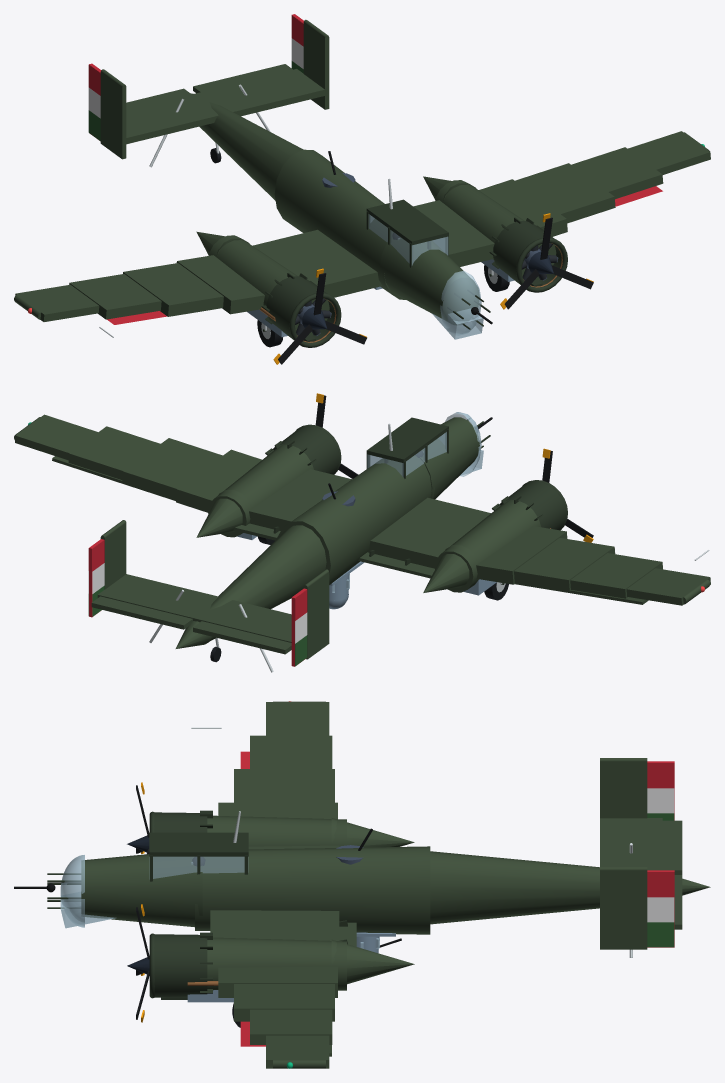
Rendered from hungarian_ju86.obj.
The picture shows the model from 3 angles, top to bottom: view 1: azimuth 30°, elevation 25°; view 2: azimuth 150°, elevation 25°; view 3: azimuth 270°, elevation 25°; orthographic projection. The views are drawn at different scales.
Visible parts, largest first — view 1: Mesh, Fuselage_Mid, Wing_CenterSection, Tail_HorizontalStabilizer, Fuselage_Forward, Fuselage_Aft, Nose_GlazedTurret, Cockpit_GlassCanopy, Nose_BombardierGlass, Elevator_Right; view 2: Mesh, Fuselage_Mid, Wing_CenterSection, Tail_HorizontalStabilizer, Fuselage_Aft, Fuselage_Forward, Elevator_Right, Elevator_Left, Cockpit_GlassCanopy, Flap_Left_Inboard, Aileron_Left_Outboard; view 3: Mesh, Fuselage_Mid, Fuselage_Aft, Fuselage_Forward, Wing_CenterSection, Tail_HorizontalStabilizer, Cockpit_GlassCanopy, Nose_GlazedTurret, Elevator_Left, Nose_BombardierGlass.
Part boxes in pixels (x1=…): Mesh: x1=14, y1=15, x2=710, y2=364; Fuselage_Mid: x1=274, y1=149, x2=405, y2=299; Wing_CenterSection: x1=252, y1=200, x2=494, y2=297; Tail_HorizontalStabilizer: x1=124, y1=69, x2=325, y2=144; Fuselage_Forward: x1=379, y1=237, x2=479, y2=321; Fuselage_Aft: x1=199, y1=102, x2=303, y2=200; Nose_GlazedTurret: x1=440, y1=270, x2=481, y2=333; Cockpit_GlassCanopy: x1=368, y1=214, x2=448, y2=265; Nose_BombardierGlass: x1=432, y1=309, x2=483, y2=339; Elevator_Right: x1=193, y1=64, x2=292, y2=93; Mesh: x1=14, y1=393, x2=710, y2=672; Fuselage_Mid: x1=276, y1=455, x2=434, y2=584; Wing_CenterSection: x1=249, y1=469, x2=490, y2=568; Tail_HorizontalStabilizer: x1=97, y1=574, x2=291, y2=642; Fuselage_Aft: x1=209, y1=525, x2=326, y2=641; Fuselage_Forward: x1=420, y1=417, x2=479, y2=499; Elevator_Right: x1=91, y1=596, x2=192, y2=629; Elevator_Left: x1=193, y1=621, x2=291, y2=654; Cockpit_GlassCanopy: x1=367, y1=432, x2=446, y2=477; Flap_Left_Inboard: x1=358, y1=552, x2=434, y2=578; Aileron_Left_Outboard: x1=514, y1=583, x2=648, y2=604; Mesh: x1=46, y1=701, x2=710, y2=1068; Fuselage_Mid: x1=195, y1=846, x2=430, y2=934; Fuselage_Aft: x1=430, y1=851, x2=599, y2=924; Fuselage_Forward: x1=81, y1=854, x2=202, y2=927; Wing_CenterSection: x1=210, y1=845, x2=339, y2=940; Tail_HorizontalStabilizer: x1=600, y1=818, x2=662, y2=870; Cockpit_GlassCanopy: x1=149, y1=856, x2=248, y2=878; Nose_GlazedTurret: x1=60, y1=855, x2=84, y2=927; Elevator_Left: x1=662, y1=820, x2=682, y2=874; Nose_BombardierGlass: x1=60, y1=892, x2=115, y2=928.
Bounding box in the file's own units: 22.69 × 4.59 × 18.38.
